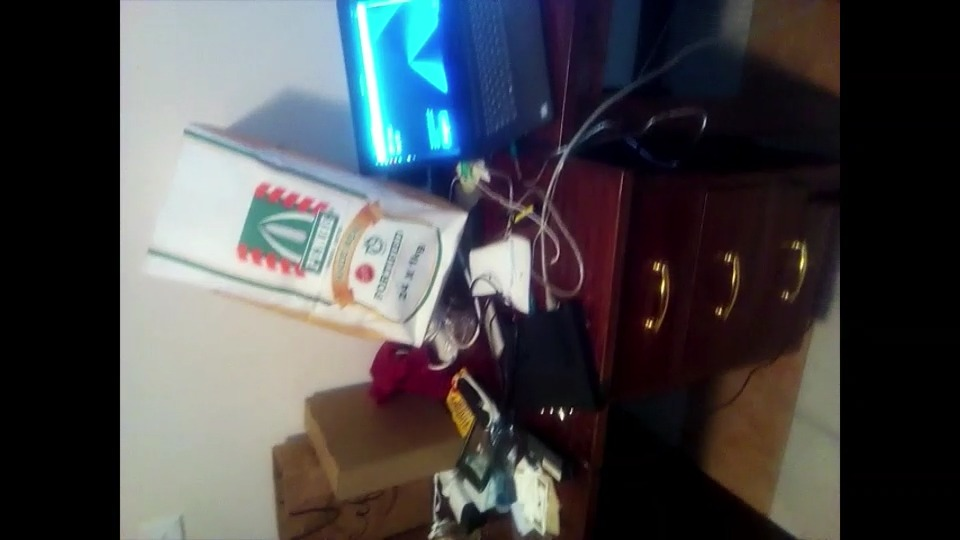maize_flour_green_label: (141, 124, 457, 347)
